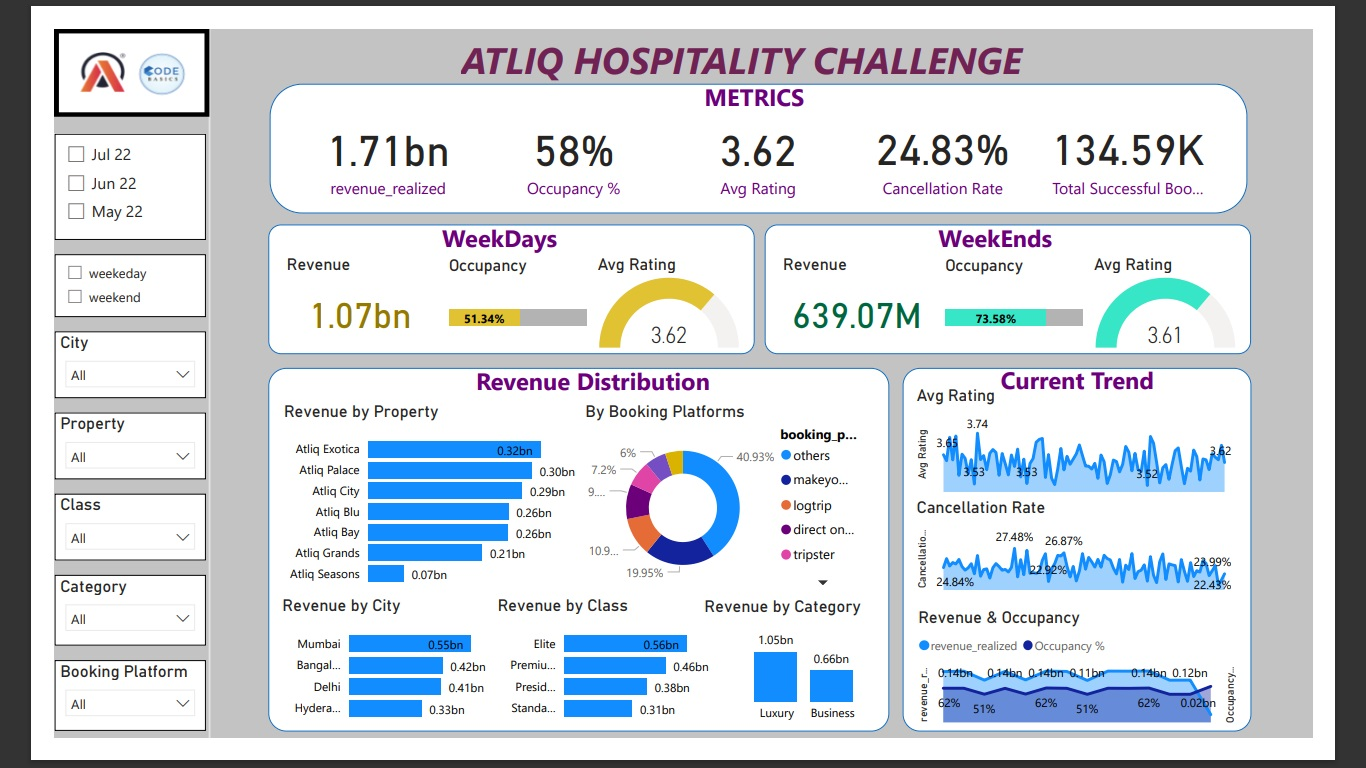

The page's visual inventory and layout, read from the dashboard file:
{"tool":"powerbi","page":{"name":"Dashboard","canvas":[1280,720],"ordinal":0},"visuals":[{"type":"shape","title":"Wee","box":[217.5,198.2,495,131.7],"z":0,"group":"g1"},{"type":"shape","title":"Wee","box":[722.5,198.2,495,131.7],"z":0,"group":"g2"},{"type":"slicer","title":"City","fields":{"Values":["dim_hotels.city"]},"box":[0,307.1,154.5,68],"z":0},{"type":"shape","box":[217.5,343.8,631.7,370],"z":0,"group":"g7"},{"type":"shape","box":[862.5,343.8,355,370],"z":0,"group":"g8"},{"type":"gauge","fields":{"Y":["fact_bookings.Avg Rating"]},"box":[547.5,228.2,155,100],"z":1000,"group":"g1"},{"type":"gauge","fields":{"Y":["fact_bookings.Avg Rating"]},"box":[1052.5,228.2,155,100],"z":1000,"group":"g2"},{"type":"areaChart","title":"Avg Rating","fields":{"Category":["dim_date.date"],"Y":["fact_bookings.Avg Rating"]},"box":[872.5,362.1,333.3,113.3],"z":1000,"group":"g8"},{"type":"slicer","title":"Category","fields":{"Values":["dim_hotels.category"]},"box":[0,555.1,154.5,72.3],"z":1000},{"type":"clusteredBarChart","title":"Revenue by City","fields":{"Category":["dim_hotels.city"],"Y":["Sum(fact_bookings.revenue_realized)"]},"box":[227.3,575.5,238.9,138.3],"z":1000,"group":"g7"},{"type":"card","title":"Revenue","fields":{"Values":["Sum(fact_bookings.revenue_realized)"]},"box":[230.8,228.2,160,100],"z":2000,"group":"g1"},{"type":"card","title":"Revenue","fields":{"Values":["Sum(fact_bookings.revenue_realized)"]},"box":[735.8,228.2,160,100],"z":2000,"group":"g2"},{"type":"donutChart","title":"By Booking Platforms","fields":{"Category":["fact_bookings.booking_platform"],"Y":["Sum(fact_bookings.revenue_realized)"]},"box":[535.3,378.8,293.3,196.7],"z":2000,"group":"g7"},{"type":"slicer","title":"Property","fields":{"Values":["dim_hotels.property_id"]},"box":[0,389.8,154.5,68],"z":2000},{"type":"areaChart","title":"Revenue & Occupancy","fields":{"Category":["dim_date.week no"],"Y":["Sum(fact_bookings.revenue_realized)"],"Y2":["fact_aggregated_bookings.Occupancy %"]},"box":[873.1,587.8,333.1,123.3],"z":2000,"group":"g8"},{"type":"slicer","title":"Month","fields":{"Values":["dim_date.mmm yy"]},"box":[0,106.3,154.5,107.7],"z":3000},{"type":"hundredPercentStackedBarChart","title":"Occupancy","fields":{"Y":["fact_aggregated_bookings.Occupancy %","fact_aggregated_bookings.UnOccupancy"]},"box":[395.8,229.9,150,100],"z":3000,"group":"g1"},{"type":"hundredPercentStackedBarChart","title":"Occupancy","fields":{"Y":["fact_aggregated_bookings.Occupancy %","fact_aggregated_bookings.UnOccupancy"]},"box":[900.8,229.9,150,100],"z":3000,"group":"g2"},{"type":"clusteredBarChart","title":"Revenue by Property","fields":{"Category":["dim_hotels.property_name"],"Y":["Sum(fact_bookings.revenue_realized)"]},"box":[228.6,378.8,315,196.7],"z":3000,"group":"g7"},{"type":"areaChart","title":"Cancellation Rate","fields":{"Category":["dim_date.date"],"Y":["fact_bookings.Cancellation Rate"]},"box":[872.5,475.5,333.3,98.3],"z":3000,"group":"g8"},{"type":"textbox","box":[389.2,189.9,206.7,55],"z":4000,"group":"g1"},{"type":"textbox","box":[894.2,189.9,206.7,55],"z":4000,"group":"g2"},{"type":"slicer","fields":{"Values":["dim_date.day_type"]},"box":[0,228.7,154.5,63.8],"z":4000},{"type":"clusteredBarChart","title":"Revenue by Class","fields":{"Category":["dim_rooms.room_class"],"Y":["Sum(fact_bookings.revenue_realized)"]},"box":[446.6,575.5,238.9,138.3],"z":4000,"group":"g7"},{"type":"textbox","box":[408.2,0,769.6,89.3],"z":5000},{"type":"clusteredColumnChart","title":"Revenue by Category","fields":{"Category":["dim_hotels.category"],"Y":["Sum(fact_bookings.revenue_realized)"]},"box":[656.2,576.5,214,137.5],"z":5000,"group":"g7"},{"type":"group","id":"g1","title":"Group 2","box":[217.5,189.9,495,140],"z":6000},{"type":"group","id":"g2","title":"Group 2","box":[722.5,189.9,495,140],"z":7000},{"type":"group","id":"g3","title":"Group 5","box":[218.3,47.1,995,140.2],"z":8000},{"type":"group","id":"g4","title":"Group 1","box":[218.3,55.5,995,131.8],"z":9000,"group":"g3"},{"type":"group","id":"g5","title":"Group 6","box":[217.5,335.5,652.7,378.5],"z":9000},{"type":"group","id":"g6","title":"Group 7","box":[862.5,333.8,355,380],"z":10000},{"type":"slicer","title":"Class","fields":{"Values":["dim_rooms.room_class"]},"box":[0,472.4,154.5,68],"z":11000},{"type":"group","id":"g7","title":"Group 3","box":[217.5,343.8,652.7,370.2],"z":12000,"group":"g5"},{"type":"slicer","title":"Booking Platform","fields":{"Values":["fact_bookings.booking_platform"]},"box":[0,642,154.5,72.3],"z":12000},{"type":"group","id":"g8","title":"Group 4","box":[862.5,343.8,355,370],"z":13000,"group":"g6"},{"type":"textbox","box":[424.2,335.5,298.3,55],"z":14000,"group":"g5"},{"type":"textbox","box":[957.5,333.8,220,55],"z":15000,"group":"g6"},{"type":"textbox","box":[655.9,47.1,206.7,55],"z":16000,"group":"g3"},{"type":"shape","box":[218.3,55.5,995,131.8],"z":17000,"group":"g4"},{"type":"card","fields":{"Values":["Sum(fact_bookings.revenue_realized)"]},"box":[254,78.6,170.3,100.6],"z":18000,"group":"g4"},{"type":"card","fields":{"Values":["fact_aggregated_bookings.Occupancy %"]},"box":[442.4,78.6,170.3,100.6],"z":19000,"group":"g4"},{"type":"card","fields":{"Values":["fact_bookings.Avg Rating"]},"box":[630.9,78.6,169,100.6],"z":20000,"group":"g4"},{"type":"card","fields":{"Values":["fact_bookings.Cancellation Rate"]},"box":[818.1,79,170.1,99.9],"z":21000,"group":"g4"},{"type":"card","fields":{"Values":["fact_bookings.Total Successful Bookings"]},"box":[1006.3,79,170.1,99.9],"z":22000,"group":"g4"}]}

Visuals, with their boxes in screenshot pixels (x1, y1, x2, y2), scaled from the page's 1280x720 canvas onto the 1366x768 screenshot:
"Wee" shape: region(232, 211, 760, 352)
"Wee" shape: region(771, 211, 1299, 352)
"City" slicer: region(0, 328, 165, 400)
shape: region(232, 367, 906, 761)
shape: region(920, 367, 1299, 761)
gauge - fact_bookings.Avg Rating: region(584, 243, 750, 350)
gauge - fact_bookings.Avg Rating: region(1123, 243, 1289, 350)
"Avg Rating" areaChart: region(931, 386, 1287, 507)
"Category" slicer: region(0, 592, 165, 669)
"Revenue by City" clusteredBarChart: region(243, 614, 498, 761)
"Revenue" card: region(246, 243, 417, 350)
"Revenue" card: region(785, 243, 956, 350)
"By Booking Platforms" donutChart: region(571, 404, 884, 614)
"Property" slicer: region(0, 416, 165, 488)
"Revenue & Occupancy" areaChart: region(932, 627, 1287, 759)
"Month" slicer: region(0, 113, 165, 228)
"Occupancy" hundredPercentStackedBarChart: region(422, 245, 582, 352)
"Occupancy" hundredPercentStackedBarChart: region(961, 245, 1121, 352)
"Revenue by Property" clusteredBarChart: region(244, 404, 580, 614)
"Cancellation Rate" areaChart: region(931, 507, 1287, 612)
textbox: region(415, 203, 636, 261)
textbox: region(954, 203, 1175, 261)
slicer - dim_date.day_type: region(0, 244, 165, 312)
"Revenue by Class" clusteredBarChart: region(477, 614, 732, 761)
textbox: region(436, 0, 1257, 95)
"Revenue by Category" clusteredColumnChart: region(700, 615, 929, 762)
"Group 2" group: region(232, 203, 760, 352)
"Group 2" group: region(771, 203, 1299, 352)
"Group 5" group: region(233, 50, 1295, 200)
"Group 1" group: region(233, 59, 1295, 200)
"Group 6" group: region(232, 358, 929, 762)
"Group 7" group: region(920, 356, 1299, 761)
"Class" slicer: region(0, 504, 165, 576)
"Group 3" group: region(232, 367, 929, 762)
"Booking Platform" slicer: region(0, 685, 165, 762)
"Group 4" group: region(920, 367, 1299, 761)
textbox: region(453, 358, 771, 417)
textbox: region(1022, 356, 1257, 415)
textbox: region(700, 50, 921, 109)
shape: region(233, 59, 1295, 200)
card - Sum(fact_bookings.revenue_realized): region(271, 84, 453, 191)
card - fact_aggregated_bookings.Occupancy %: region(472, 84, 654, 191)
card - fact_bookings.Avg Rating: region(673, 84, 854, 191)
card - fact_bookings.Cancellation Rate: region(873, 84, 1055, 191)
card - fact_bookings.Total Successful Bookings: region(1074, 84, 1255, 191)
